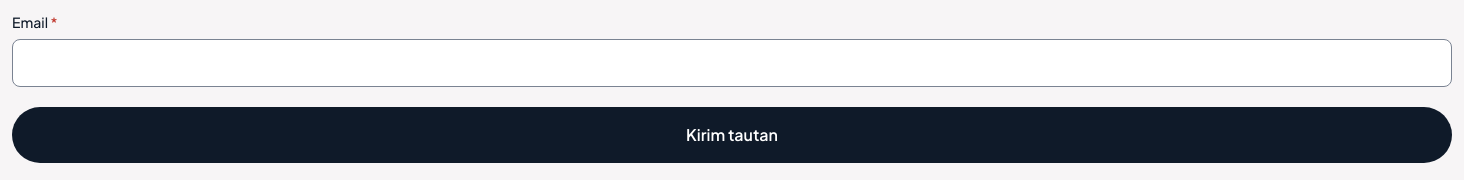
ForgotForm › shows the same confirmation for any valid email
This screenshot has width=1464, height=180.
Type "siapa@example.test" into the field labelled "Email *" at (732,63), box [12,39,1452,87]
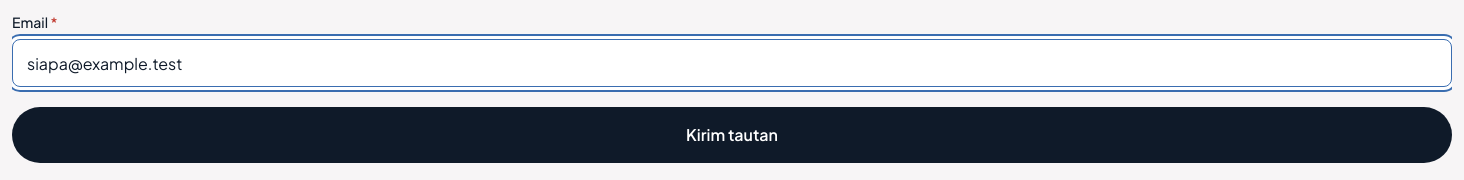
Click the button "Kirim tautan" at (732,135), box [12,107,1452,163]
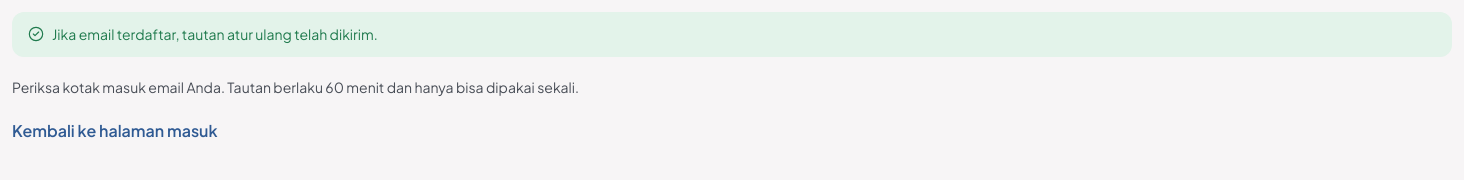
Expected: the text "Jika email terdaftar, tautan atur ulang telah dikirim." is shown, [52,24,378,45]
